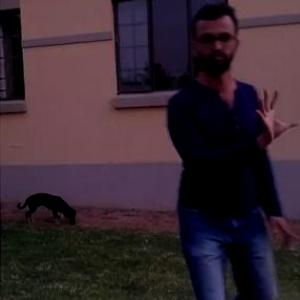follow_hand: (250, 81, 299, 144)
